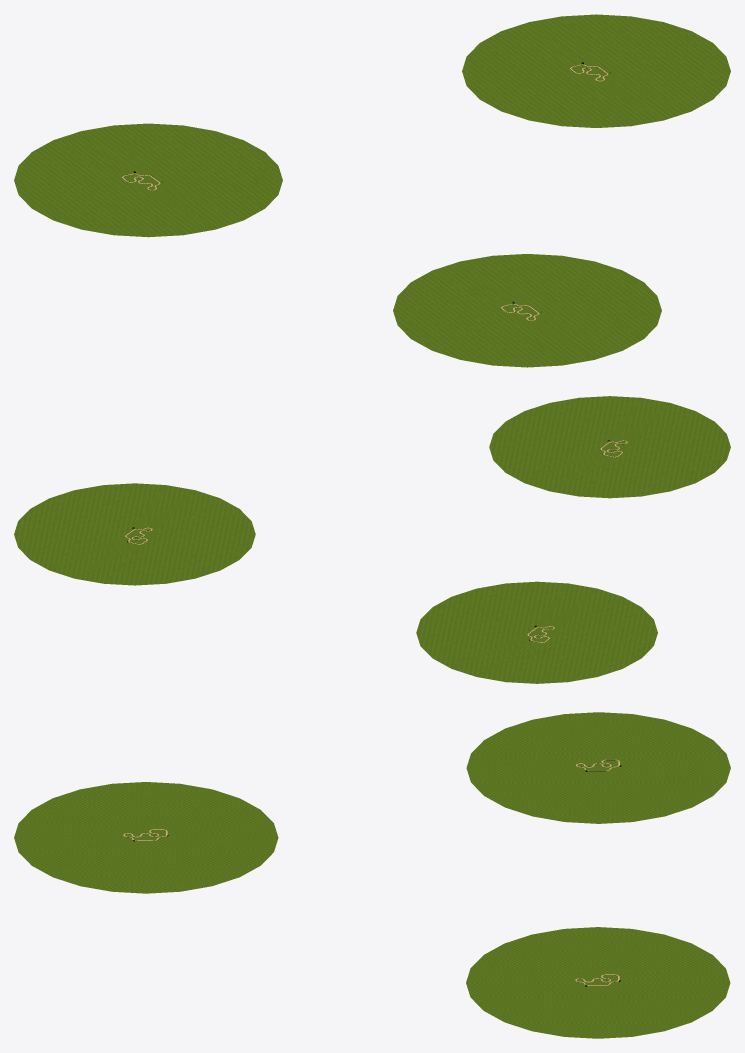
3 renders of one model, top to bottom at view 1: azimuth 30°, elevation 25°; view 2: azimuth 150°, elevation 25°; view 3: azimuth 270°, elevation 25°, orthographic. The views are drawn at different scales.
Parts seen in each view (by area): view 1: piggy_farm-SKP--grass; view 2: piggy_farm-SKP--grass; view 3: piggy_farm-SKP--grass.
Part boxes in pixels (x1=…): piggy_farm-SKP--grass: x1=14, y1=14, x2=730, y2=367; piggy_farm-SKP--grass: x1=14, y1=396, x2=730, y2=683; piggy_farm-SKP--grass: x1=14, y1=712, x2=730, y2=1038.
Bounding box in the file's own units: 1240991 × 5578 × 1151215.
Materials: 10 (10 with a texture image).
